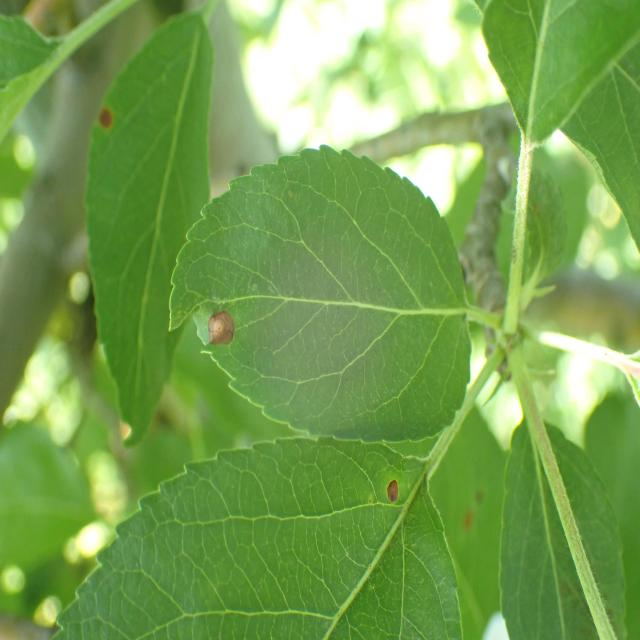Black Rot: (192, 291, 246, 382), (372, 467, 422, 539), (86, 98, 114, 136)
